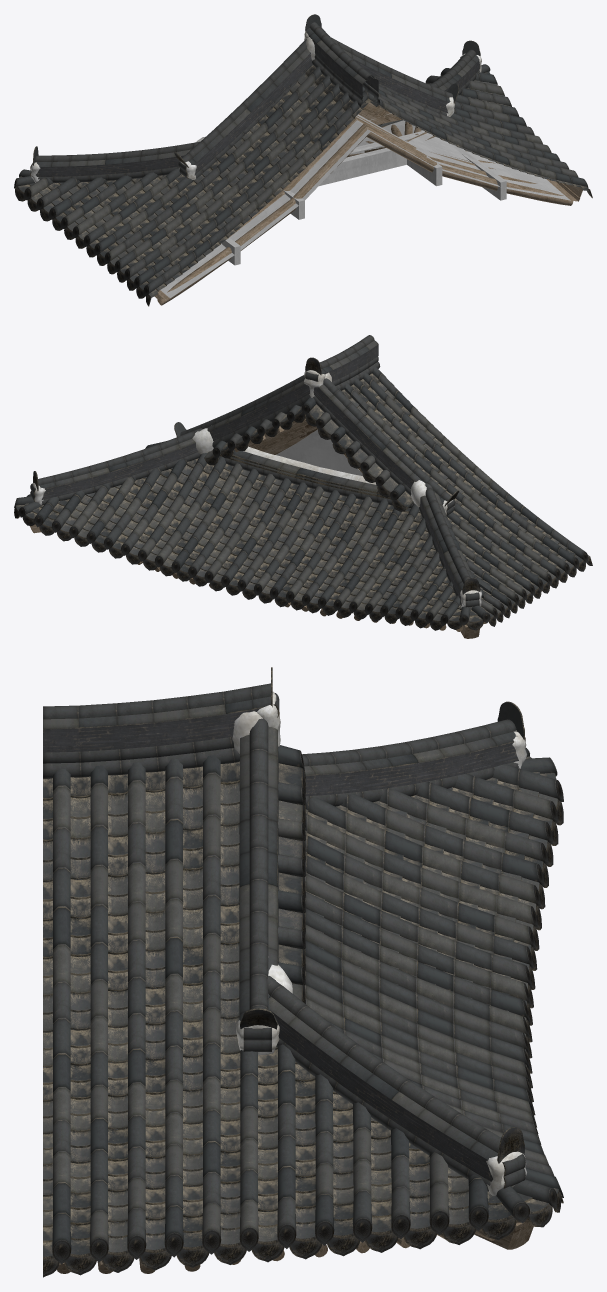
The model's file is SM_GPG_Roof02a.fbx.
3 renders of one model, top to bottom at view 1: azimuth 30°, elevation 25°; view 2: azimuth 150°, elevation 25°; view 3: azimuth 270°, elevation 25°, orthographic. The views are drawn at different scales.
Parts seen in each view (by area): view 1: SM_GPG_Roof02a; view 2: SM_GPG_Roof02a; view 3: SM_GPG_Roof02a.
Boxes of the visible parts, x1,y1,x2,y2 form: SM_GPG_Roof02a: [14, 14, 592, 306]; SM_GPG_Roof02a: [14, 335, 592, 638]; SM_GPG_Roof02a: [43, 667, 563, 1277].
Size of the model in its own units: 881 by 417 by 358.
2 materials, 2 textured.
